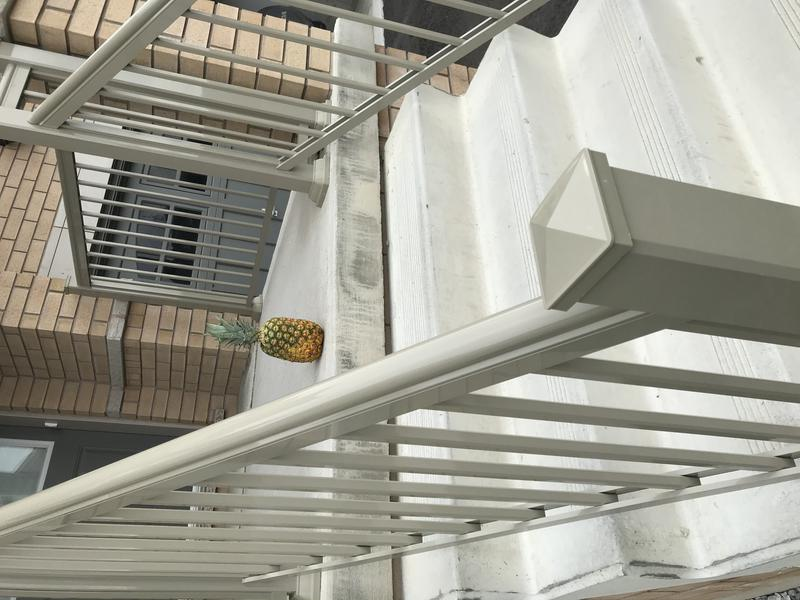pineapple: (199, 310, 328, 370)
